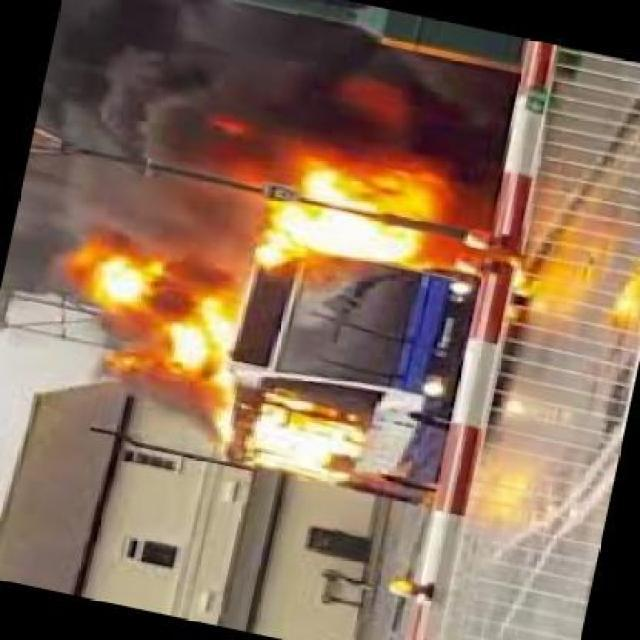Fire: (258, 150, 470, 282), (77, 241, 236, 407)
Smoke: (62, 5, 508, 154), (30, 129, 262, 241)
